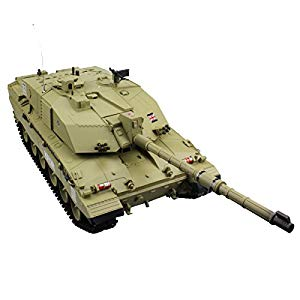Battle Tank: (13, 47, 298, 251)
